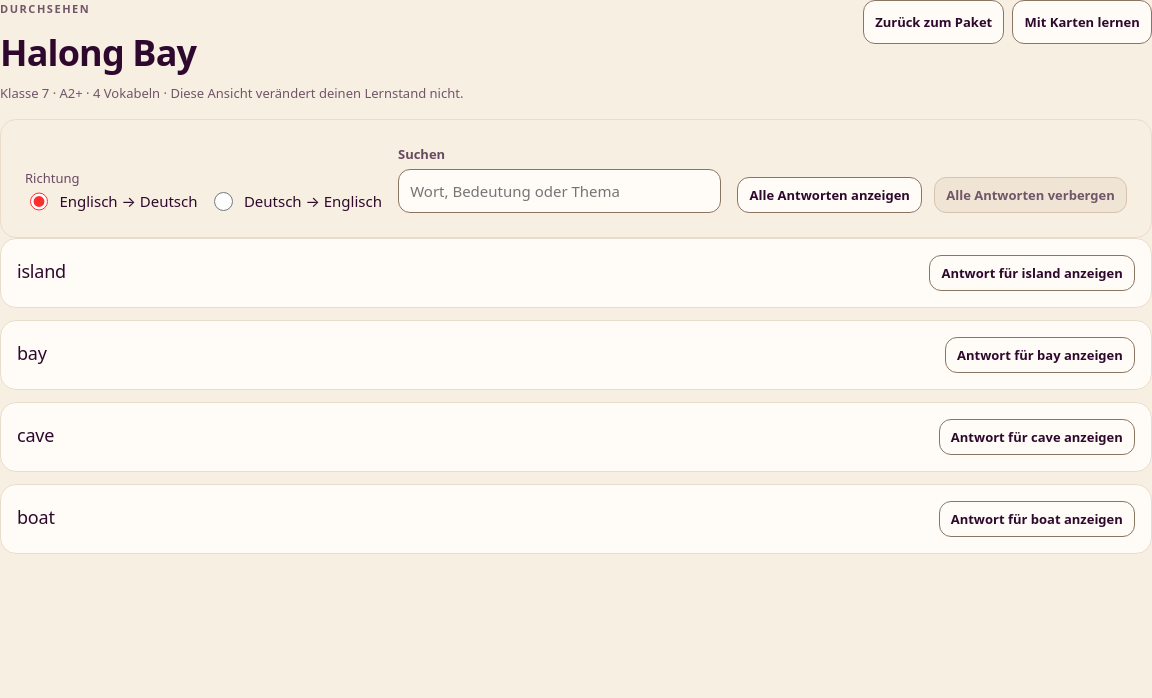
Test: Vokabeln durchsehen › tauscht beim Richtungswechsel die Seiten und verbirgt alles wieder
The image size is (1152, 698).
Click the button "Antwort für island anzeigen" at (1032, 273), box [929, 255, 1135, 291]
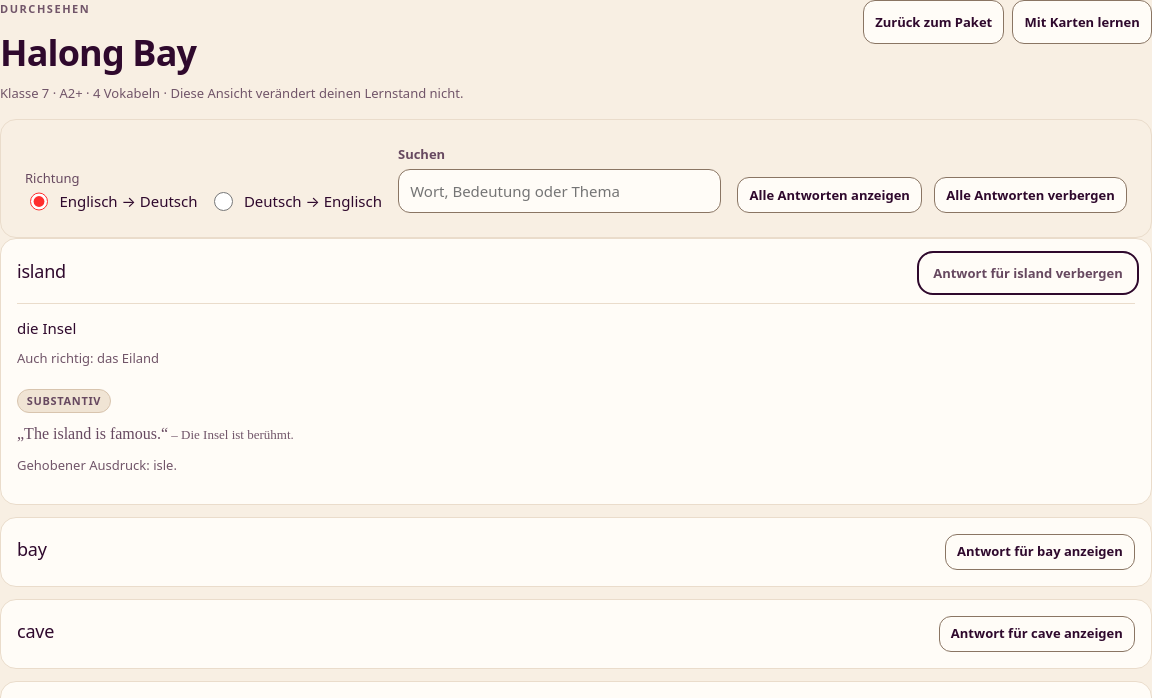
Expected: the text "die Insel" is shown, [17, 316, 76, 340]
Click the radio button labelled "Deutsch → Englisch" at (224, 201), box [214, 192, 233, 211]
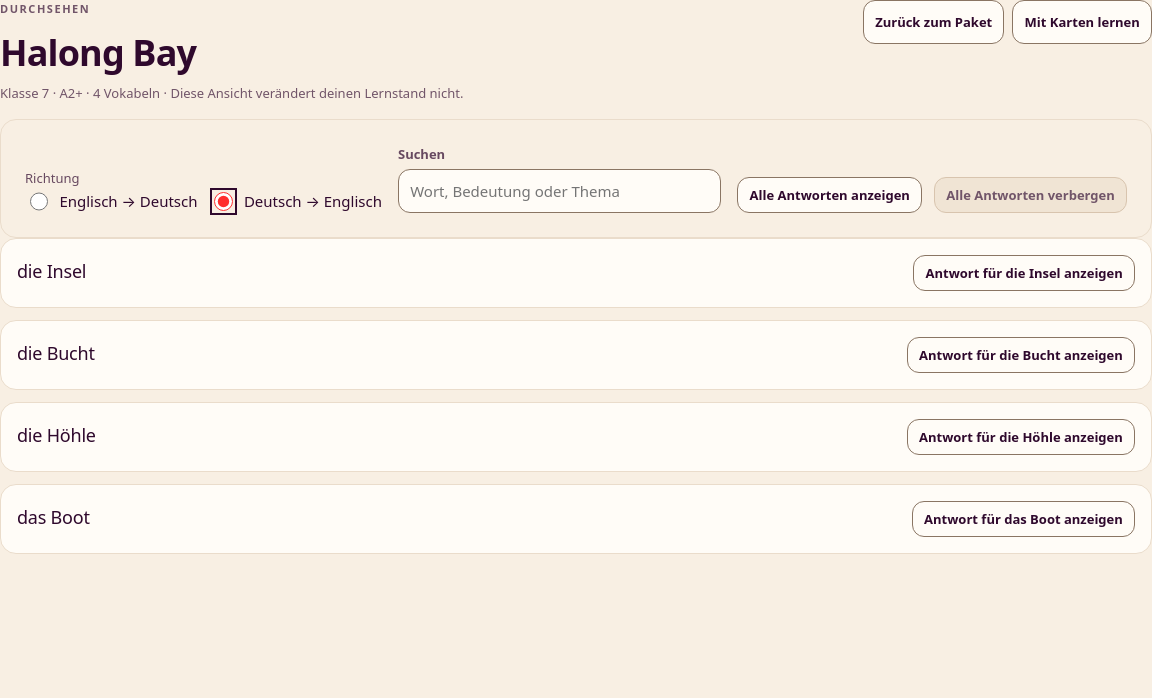
Expected: the heading "die Insel" is shown, [17, 261, 86, 282]
Expected: the button "Antwort für die Insel anzeigen" is collapsed, [913, 255, 1135, 291]
